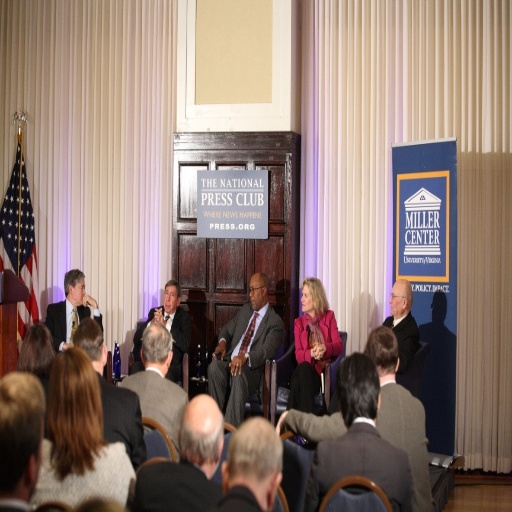hand: (210, 342, 225, 362), (229, 354, 242, 376), (312, 342, 324, 361), (152, 306, 164, 324), (152, 304, 162, 324), (312, 342, 322, 362), (82, 293, 94, 308)
